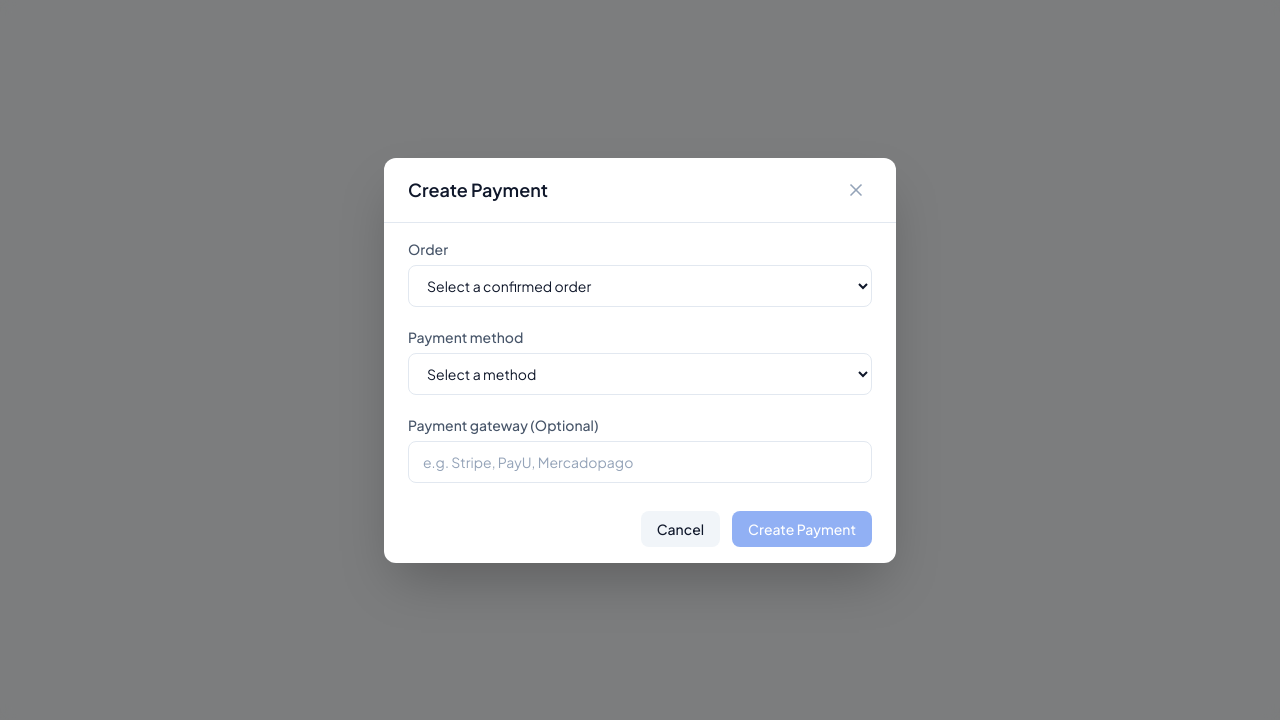
CreatePaymentModal › shows the order total when an order is selected
Select "#ORDER-AA — $99.99 — Jan 15, 2026" in the dropdown labelled "Order" at coordinates (640, 286), box [408,264,872,306]
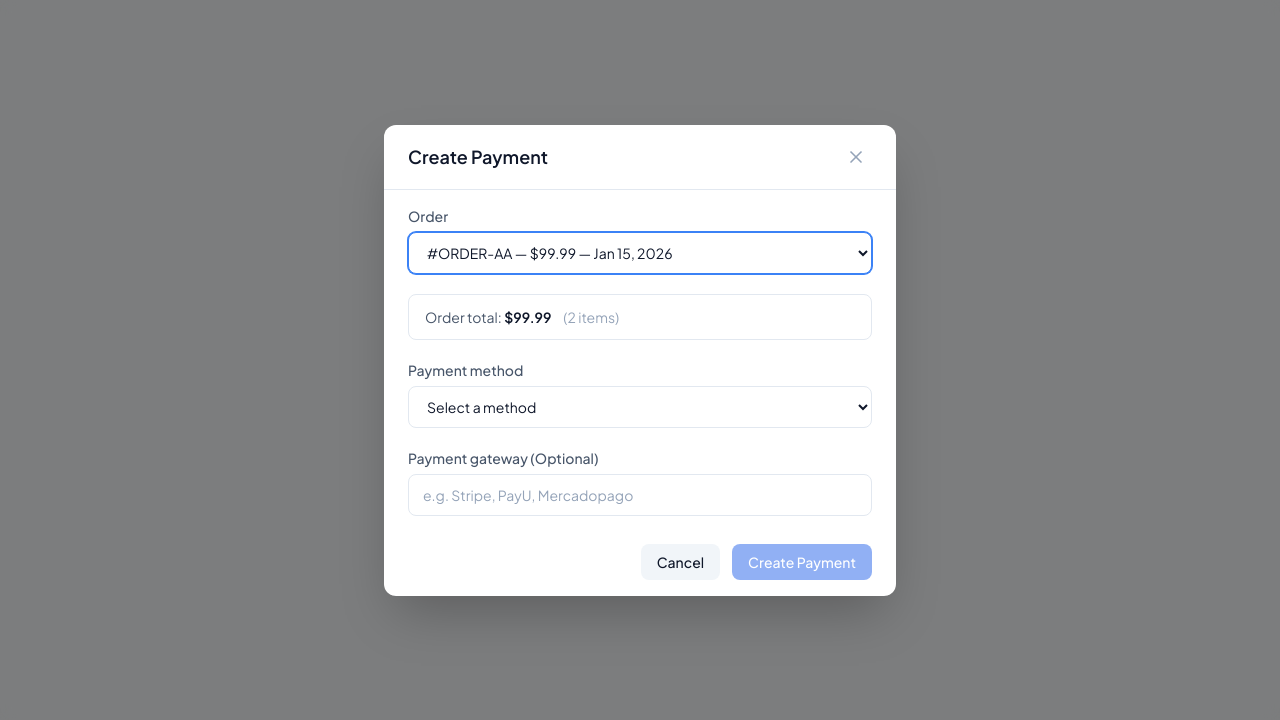
Expected: the text "$99.99" is shown, [504,308,551,326]
